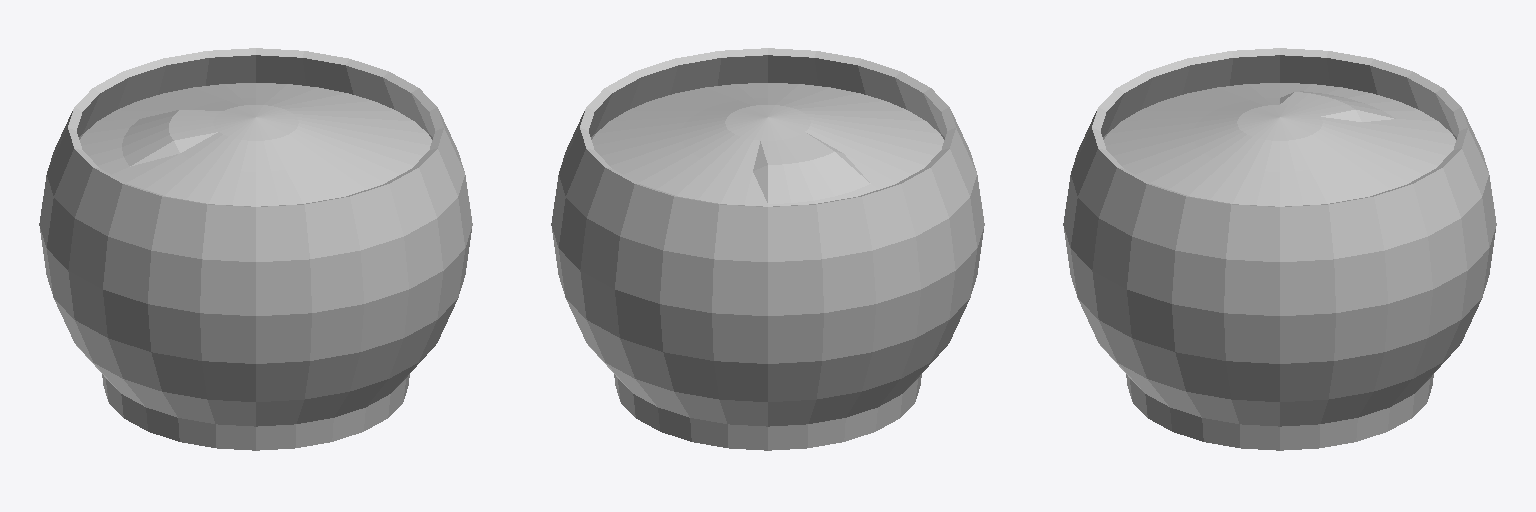
The model's file is pot.obj.
3 renders of one model, left to right at view 1: azimuth 30°, elevation 25°; view 2: azimuth 150°, elevation 25°; view 3: azimuth 270°, elevation 25°, orthographic.
Visible parts, largest first — view 1: Disc; view 2: Disc; view 3: Disc.
Part boxes in pixels (bbox=[...]): Disc: bbox=[39, 48, 472, 450]; Disc: bbox=[551, 48, 984, 450]; Disc: bbox=[1063, 48, 1496, 450].
Size of the model in its own units: 155 by 109 by 155.